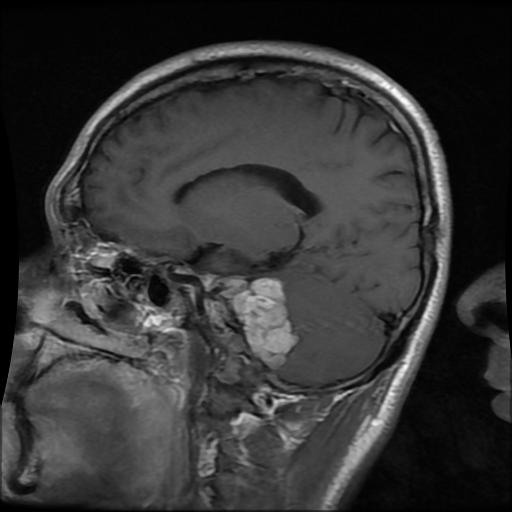Menigiomia_tumour: (232, 277, 297, 367)
